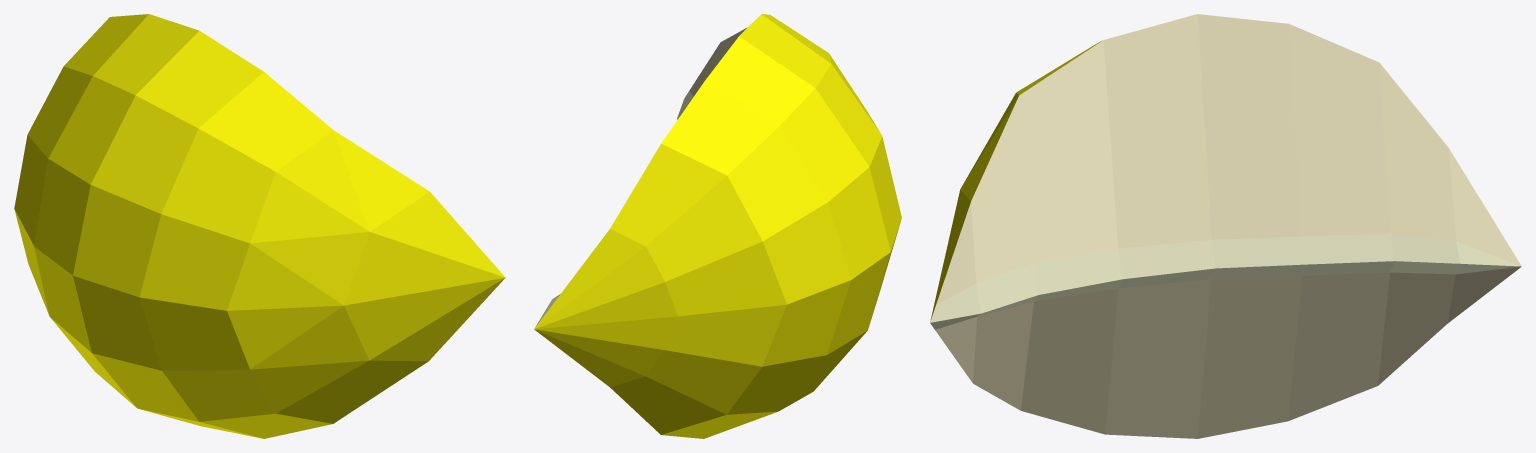
File: Golden Apple Slice.fbx
The picture shows the model from 3 angles, left to right: view 1: azimuth 30°, elevation 25°; view 2: azimuth 150°, elevation 25°; view 3: azimuth 270°, elevation 25°; orthographic projection. The views are drawn at different scales.
Visible parts, largest first — view 1: Golden Apple Slice; view 2: Golden Apple Slice; view 3: Golden Apple Slice.
Part boxes in pixels (left/top/right/bottom): Golden Apple Slice: left=14, top=14, right=505, bottom=438; Golden Apple Slice: left=534, top=14, right=901, bottom=438; Golden Apple Slice: left=930, top=14, right=1521, bottom=438.
Bounding box in the file's own units: 4.46 × 5.23 × 6.61.
